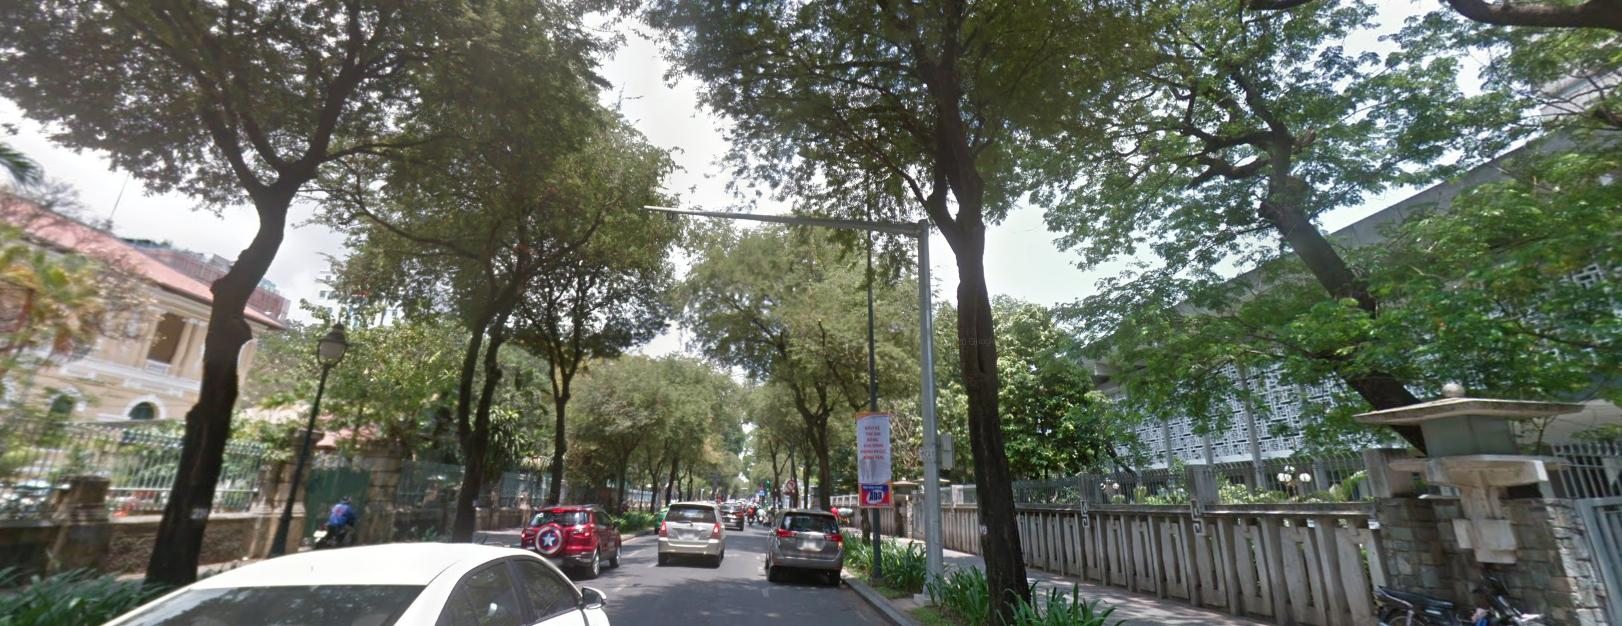Cam re: (785, 477, 796, 489)
